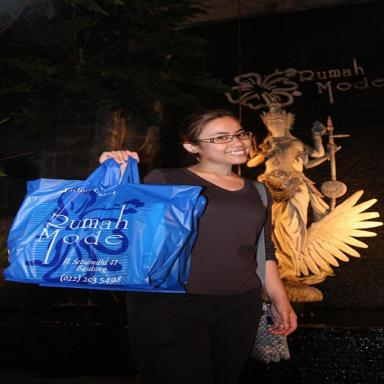plasticbag: (0, 152, 207, 294)
